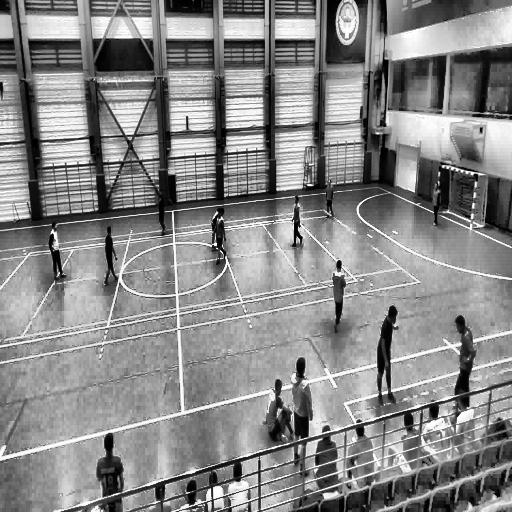player: (290, 356, 313, 474), (96, 432, 126, 510), (376, 305, 398, 403), (455, 314, 475, 399), (48, 220, 66, 280), (331, 259, 345, 333), (104, 226, 119, 284), (214, 206, 227, 264), (291, 194, 304, 247), (210, 202, 223, 253), (157, 189, 167, 235), (431, 181, 440, 227), (325, 179, 334, 219)
